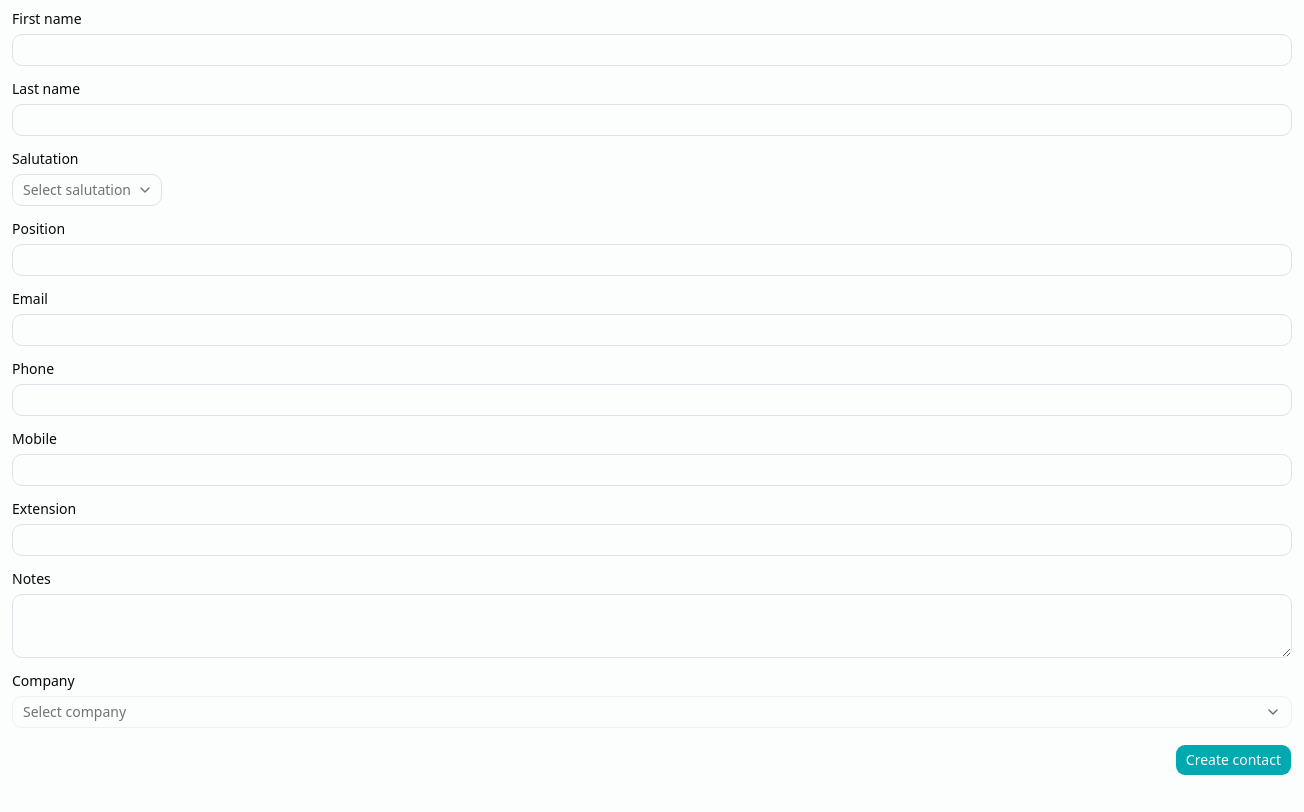
Test: ContactCreateForm + contactSchema › blocks submit when Last name is empty
The image size is (1304, 812).
In the field labelled "First name": point(652, 50) [12, 34, 1292, 66], type "OnlyFirst"
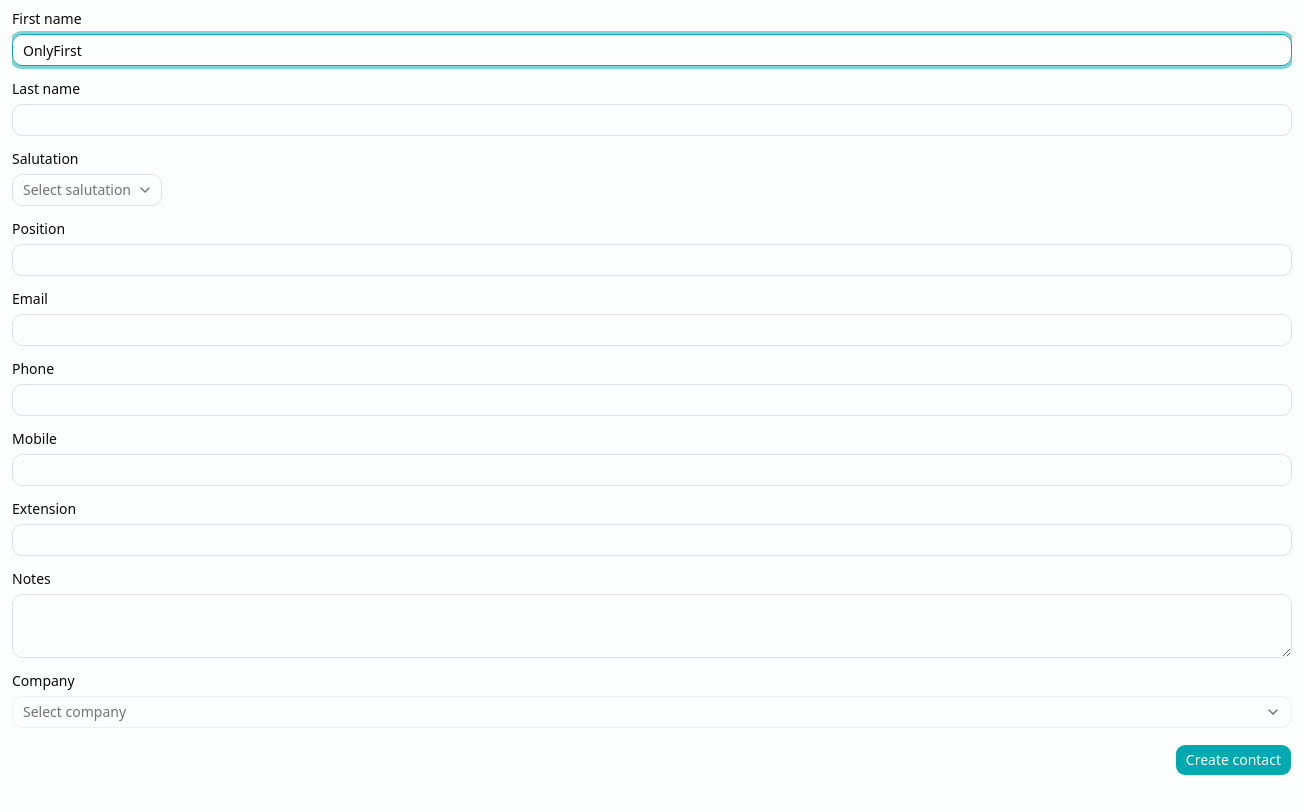
Click the button "Create contact": point(1233, 760) [1175, 744, 1292, 776]
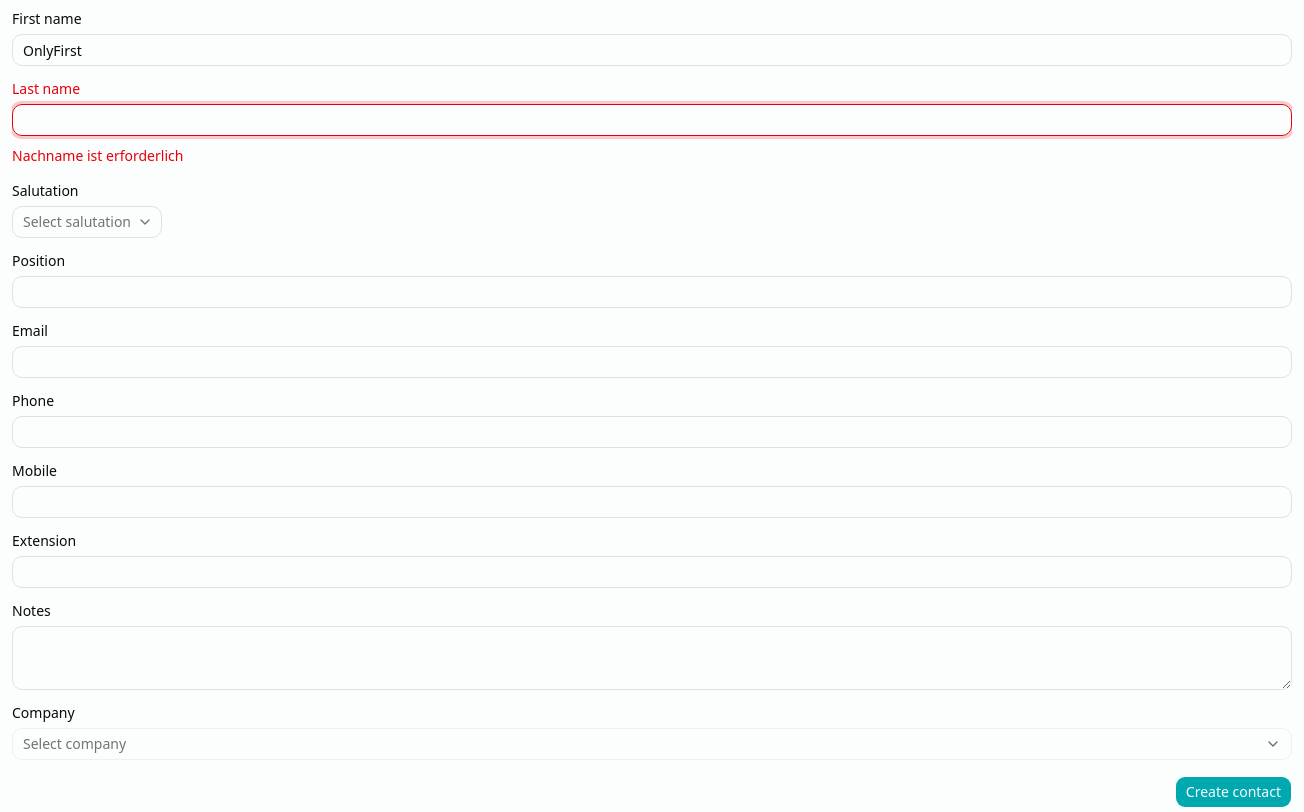
Now the text "Nachname ist erforderlich" is shown, box [12, 146, 183, 165]
